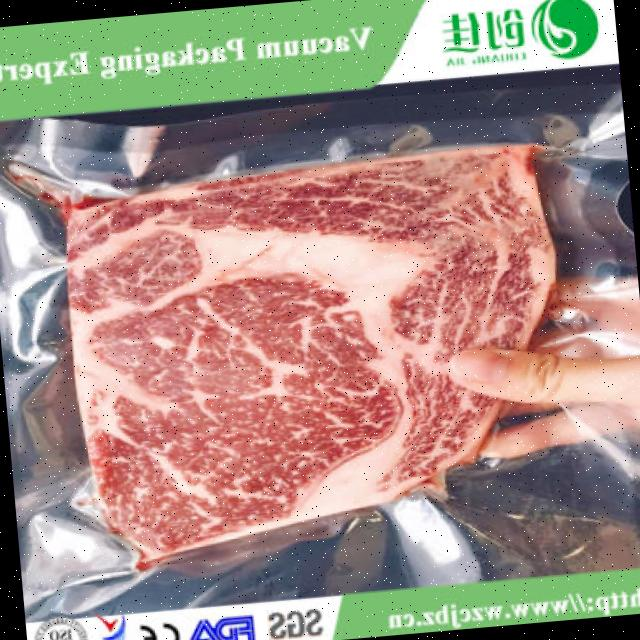meat: (8, 75, 637, 586)
